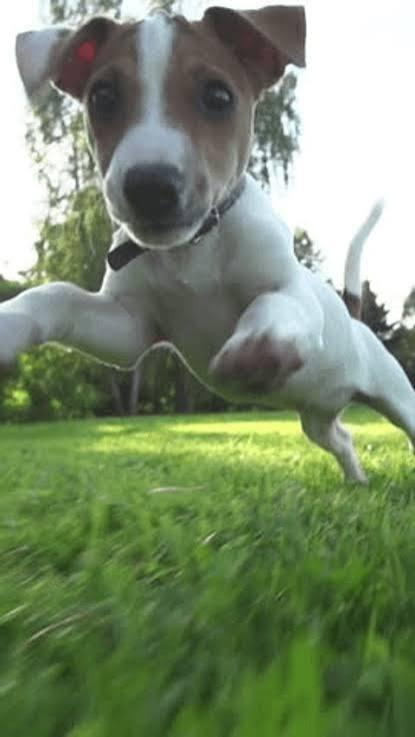puppy-dog: (0, 7, 415, 487)
